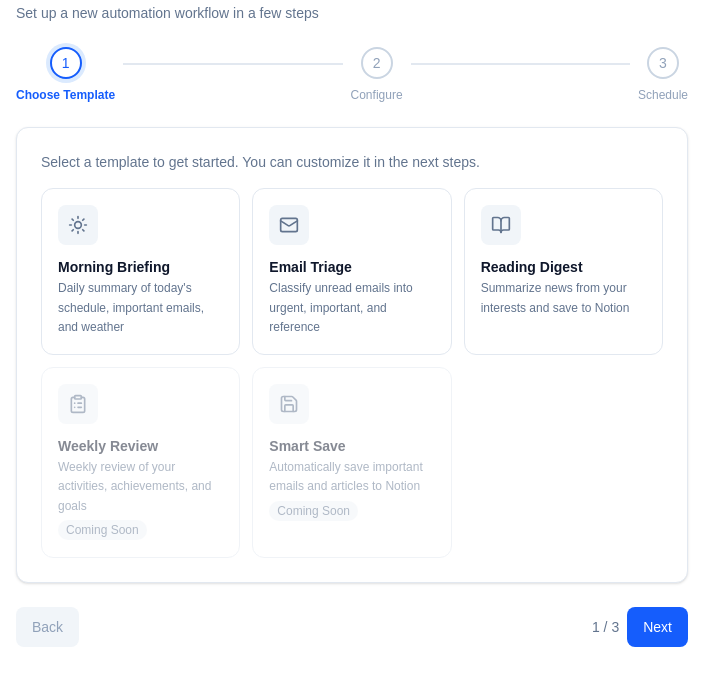
Test: NewAutomationPage — TC-3001, TC-3002 › TC-3001: Create automation form validation › clicking Next with an empty name field shows validation error
// Select Morning Briefing
Click the button "Morning Briefing": (141, 271) [41,188,240,354]
(page scrolled)
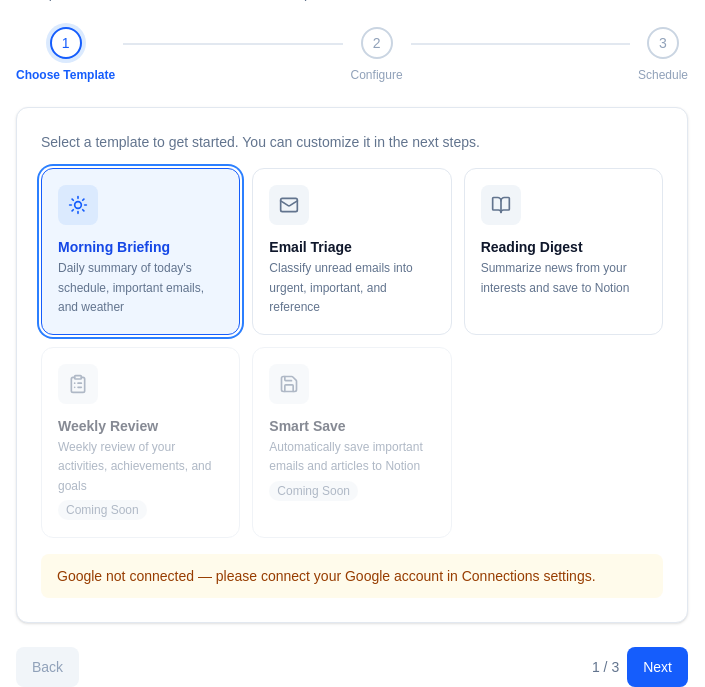
Click the button with aria-label "go to next step": (658, 667) [627,647,688,686]
(page scrolled)
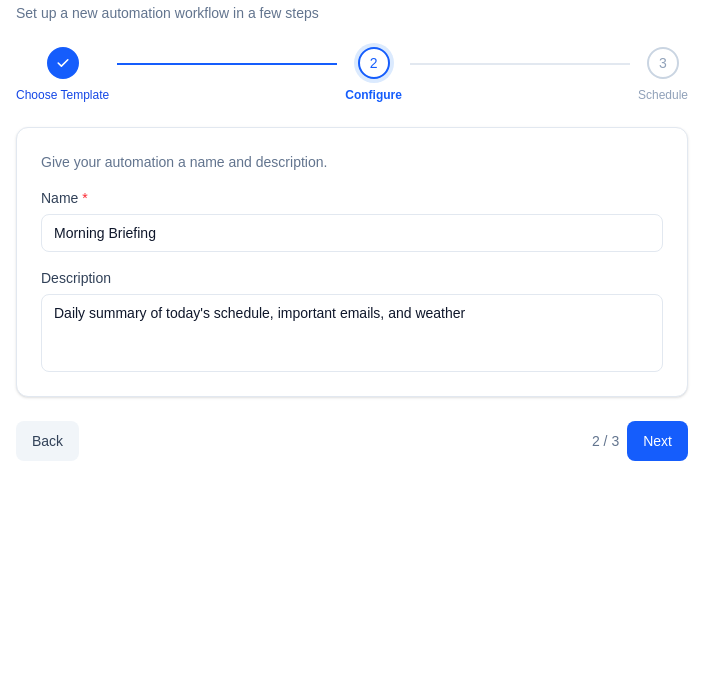
// Configure — clear the name
Clear the field labelled "Name *": (352, 233) [41,214,663,252]
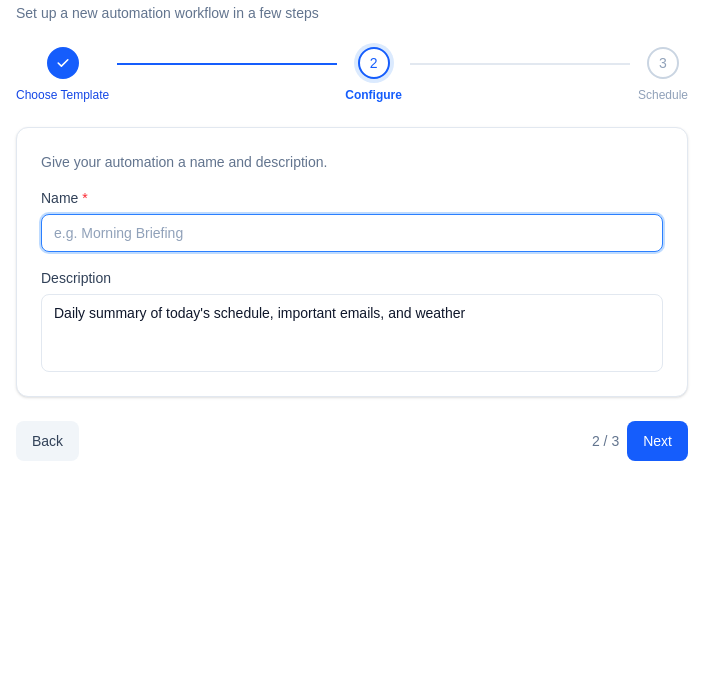
Click the button with aria-label "go to next step": (658, 441) [627,421,688,461]
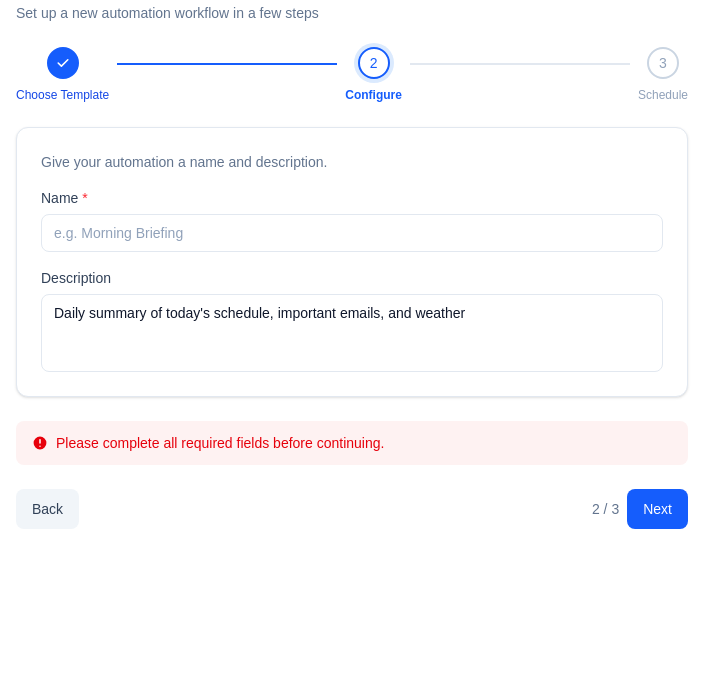
Now the message reads "Please complete all required fields before continuing.", box [56,435,384,451]
